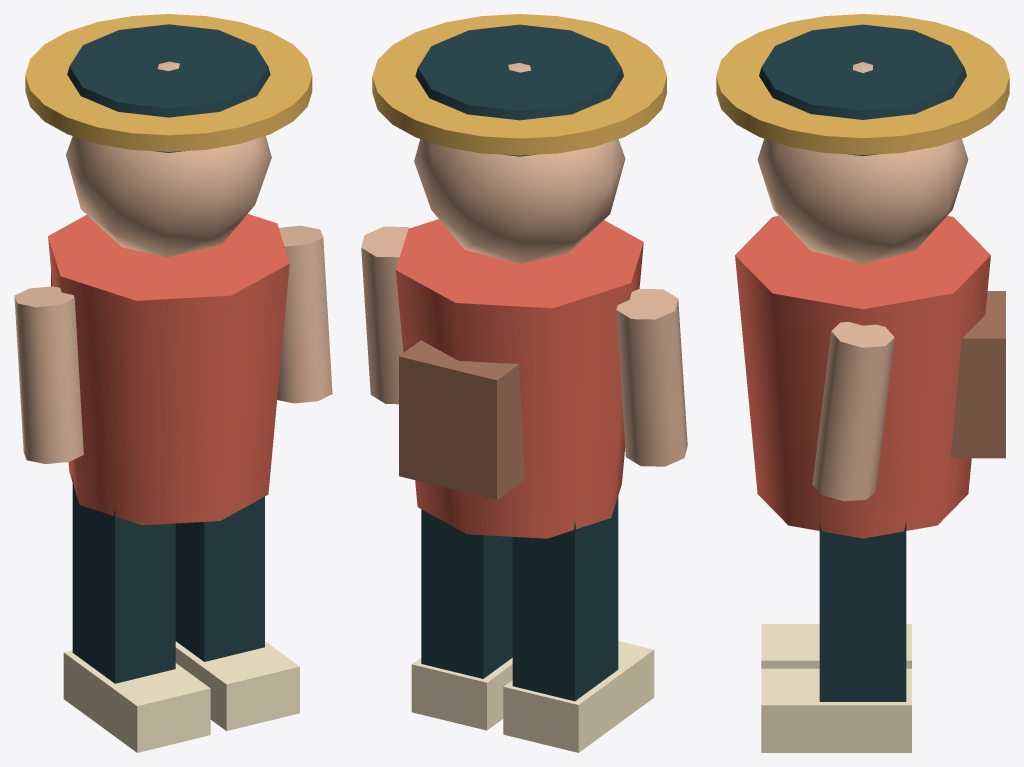
Rendered from guest_a.glb.
3 views of the same model, side by side, from view 1: azimuth 30°, elevation 25°; view 2: azimuth 150°, elevation 25°; view 3: azimuth 270°, elevation 25° (orthographic). The views are drawn at different scales.
Parts seen in each view (by area): view 1: guest_a; view 2: guest_a; view 3: guest_a.
Part boxes in pixels (box(x1,y1,x2,y2)): guest_a: box(14, 14, 332, 752); guest_a: box(361, 14, 687, 752); guest_a: box(716, 14, 1009, 752).
Size of the model in its own units: 0.95 by 1.9 by 0.78.
